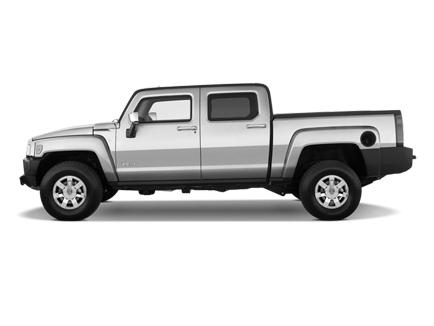car: (21, 83, 417, 222)
